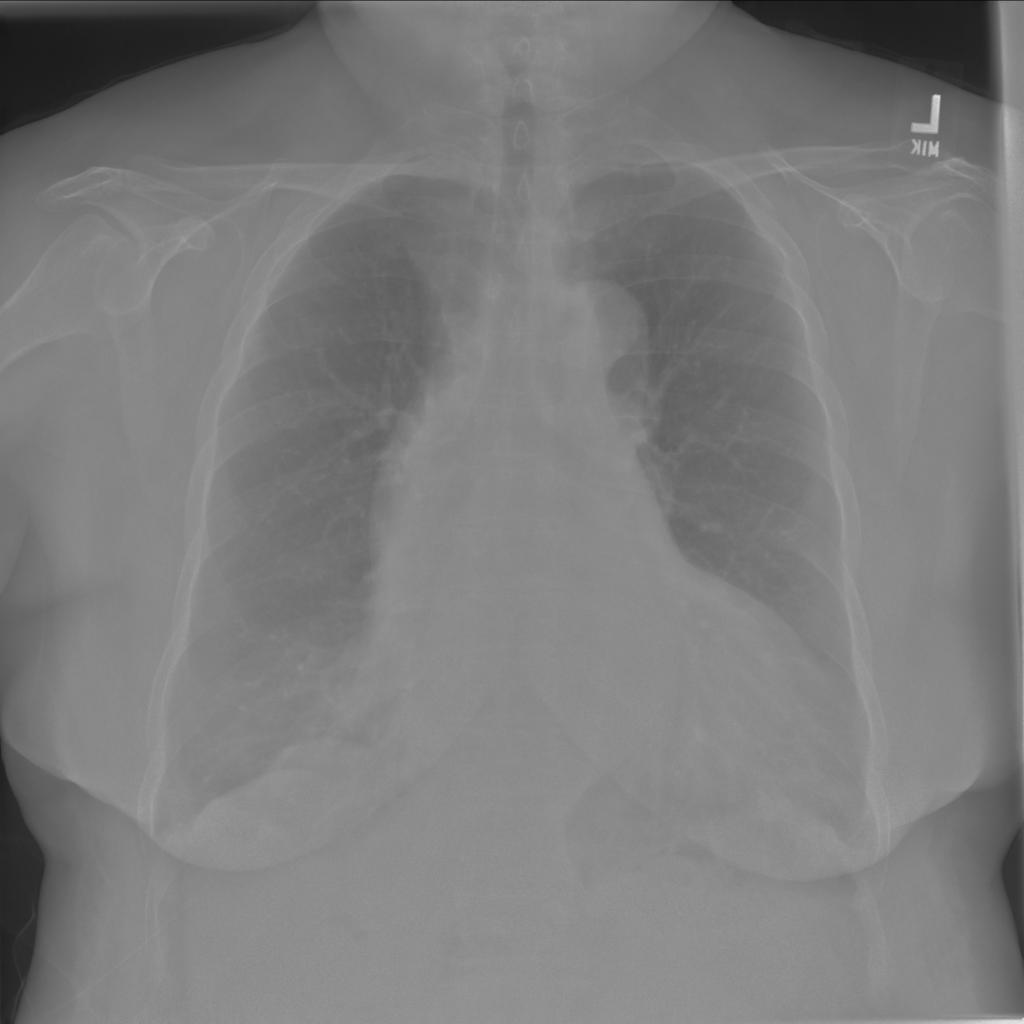Nodule: (299, 193, 337, 228)
